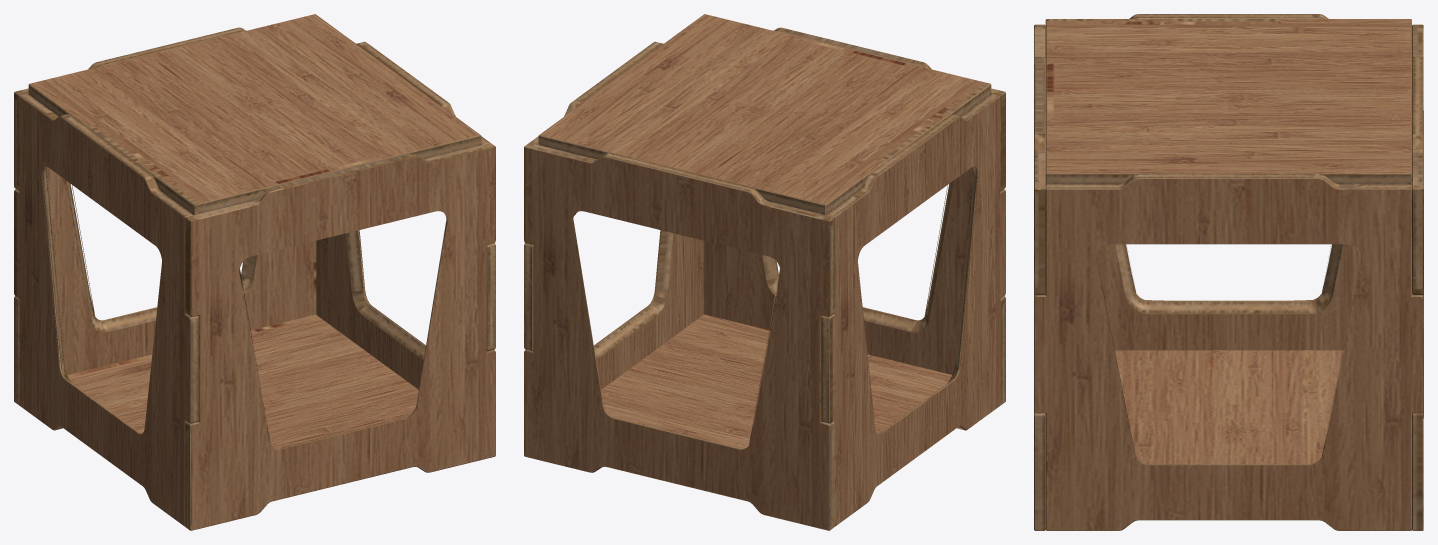
The picture shows the model from 3 angles, left to right: view 1: azimuth 30°, elevation 25°; view 2: azimuth 150°, elevation 25°; view 3: azimuth 270°, elevation 25°; orthographic projection. The views are drawn at different scales.
Visible parts, largest first — view 1: Flächen Seite A, Flächen Deckel, Flächen Seite B, Flächen Boden, innen B1, innen A 1, Kanten Deckel; view 2: Flächen Seite A, Flächen Deckel, Flächen Seite B, Flächen Boden, innen B1, innen A 1, Kanten Deckel; view 3: Flächen Seite B, Flächen Deckel, Flächen Boden, innen B1, innen A 1, Kanten Deckel.
Part boxes in pixels (x1=…): Flächen Seite A: x1=46, y1=147, x2=495, y2=530; Flächen Deckel: x1=29, y1=14, x2=480, y2=204; Flächen Seite B: x1=14, y1=97, x2=425, y2=526; Flächen Boden: x1=67, y1=314, x2=418, y2=448; innen B1: x1=15, y1=41, x2=495, y2=526; innen A 1: x1=14, y1=27, x2=495, y2=530; Kanten Deckel: x1=28, y1=84, x2=481, y2=215; Flächen Seite A: x1=524, y1=147, x2=972, y2=530; Flächen Deckel: x1=539, y1=14, x2=990, y2=204; Flächen Seite B: x1=594, y1=97, x2=1005, y2=526; Flächen Boden: x1=601, y1=314, x2=951, y2=448; innen B1: x1=524, y1=41, x2=1004, y2=526; innen A 1: x1=524, y1=27, x2=1005, y2=530; Kanten Deckel: x1=538, y1=84, x2=991, y2=214; Flächen Seite B: x1=1035, y1=179, x2=1422, y2=530; Flächen Deckel: x1=1046, y1=19, x2=1410, y2=172; Flächen Boden: x1=1115, y1=350, x2=1343, y2=464; innen B1: x1=1034, y1=14, x2=1423, y2=530; innen A 1: x1=1034, y1=24, x2=1423, y2=530; Kanten Deckel: x1=1045, y1=19, x2=1411, y2=184.
Bounding box in the file's own units: 0.4002 × 0.4 × 0.4001.
1 material, 1 textured.
